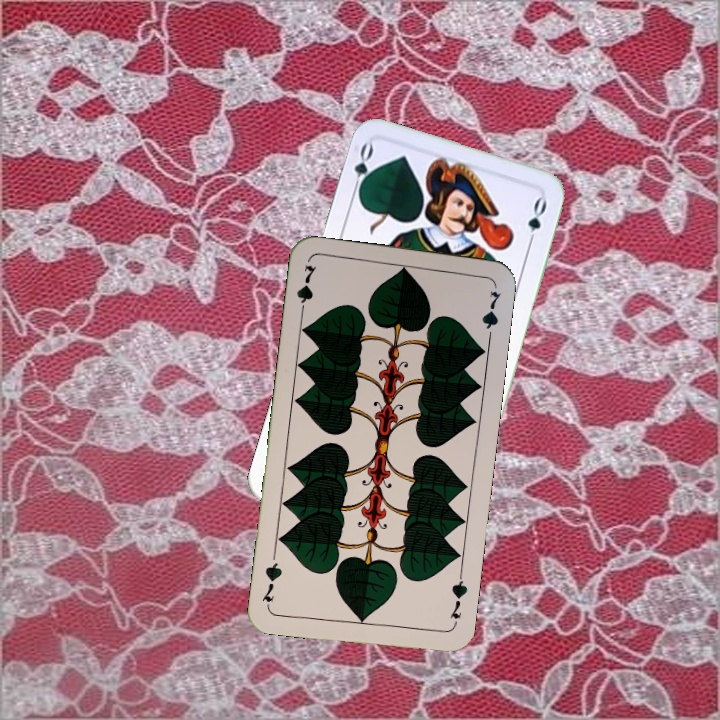G7: (293, 261, 319, 319), (446, 570, 470, 630)
GO: (348, 139, 376, 200)
